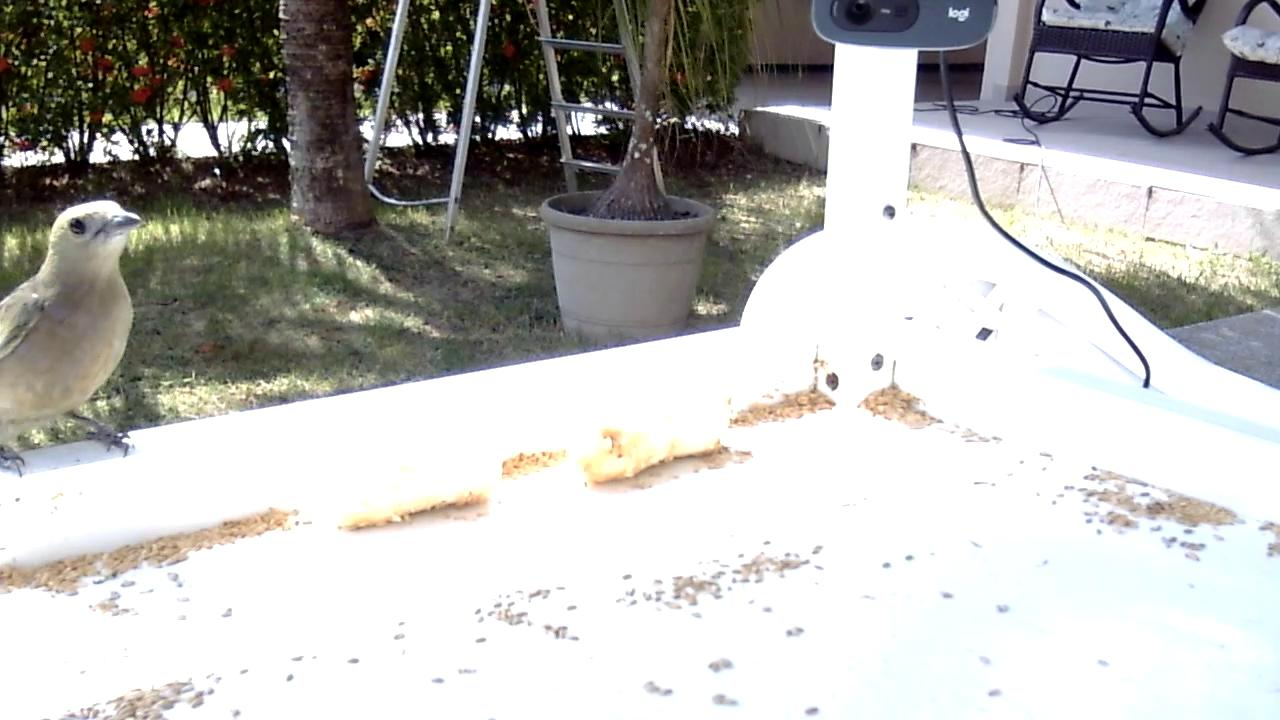sanhaco_do_coqueiro: (1, 199, 149, 482)
